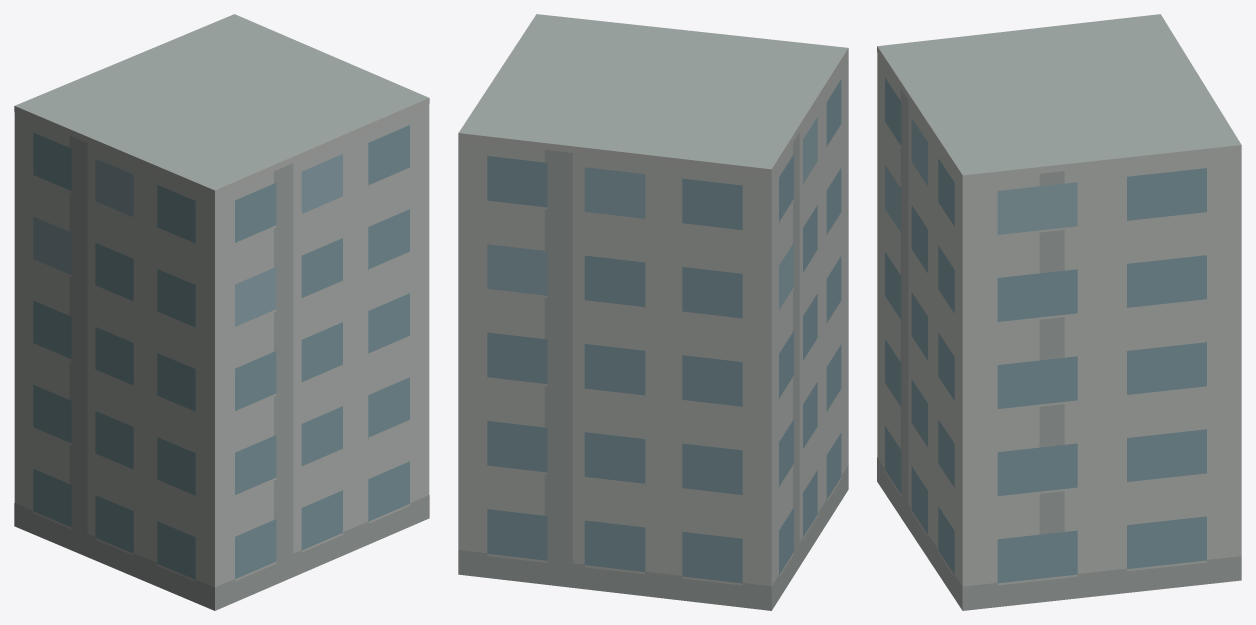
Rendered from survey-upis-32916217.glb.
3 renders of one model, left to right at view 1: azimuth 30°, elevation 25°; view 2: azimuth 150°, elevation 25°; view 3: azimuth 270°, elevation 25°, orthographic. The views are drawn at different scales.
Visible parts, largest first — view 1: survey-upis-32916217.tmp; view 2: survey-upis-32916217.tmp; view 3: survey-upis-32916217.tmp.
Boxes of the visible parts, x1,y1,x2,y2 form: survey-upis-32916217.tmp: (14, 14, 429, 610); survey-upis-32916217.tmp: (458, 14, 848, 610); survey-upis-32916217.tmp: (877, 14, 1241, 610).
Bounding box in the file's own units: 12.71 × 15.98 × 12.13.
